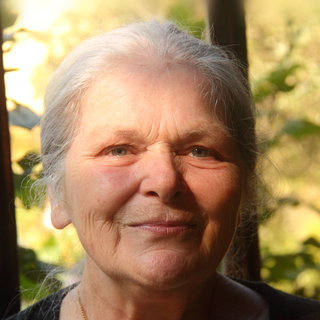eye: (178, 140, 221, 164), (94, 142, 141, 161)
